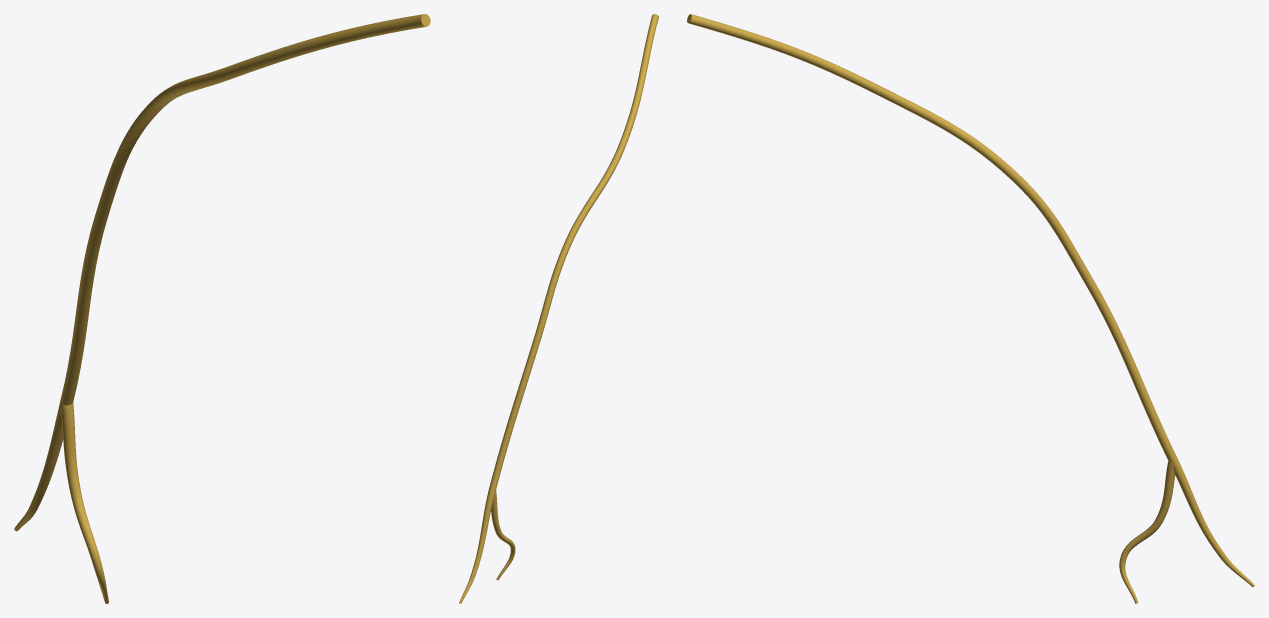
3 renders of one model, left to right at view 1: azimuth 30°, elevation 25°; view 2: azimuth 150°, elevation 25°; view 3: azimuth 270°, elevation 25°, orthographic. The views are drawn at different scales.
Parts seen in each view (by area): view 1: 右侧颊神经; view 2: 右侧颊神经; view 3: 右侧颊神经.
Part boxes in pixels (x1,y1,x2,y2): 右侧颊神经: (14, 14, 430, 603); 右侧颊神经: (459, 14, 658, 603); 右侧颊神经: (687, 14, 1254, 603).
Size of the model in its own units: 0.00628 by 0.0604 by 0.0523.
